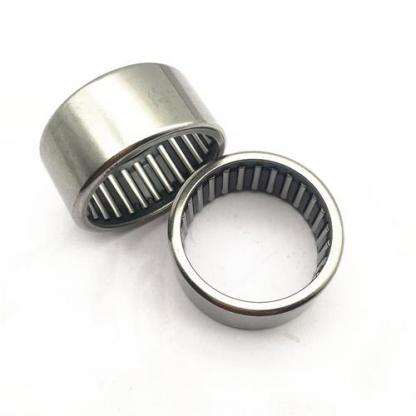FOD: (36, 57, 238, 234), (166, 149, 349, 333)
